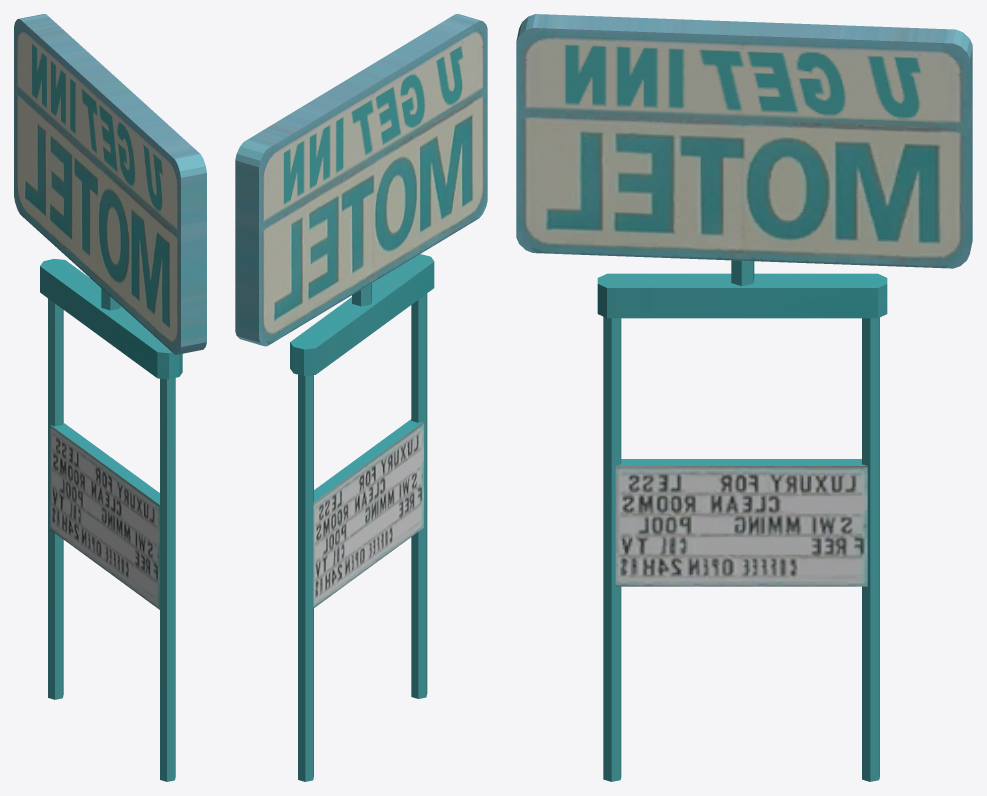
Rendered from des_stmotsigbas1.obj.
3 views of the same model, side by side, from view 1: azimuth 30°, elevation 25°; view 2: azimuth 150°, elevation 25°; view 3: azimuth 270°, elevation 25° (orthographic). The views are drawn at different scales.
Parts seen in each view (by area): view 1: des_stwnmotsign1, des_stmotsigbas1; view 2: des_stwnmotsign1, des_stmotsigbas1; view 3: des_stwnmotsign1, des_stmotsigbas1.
Boxes of the visible parts, bbox=[...] form: des_stwnmotsign1: bbox=[14, 14, 206, 354]; des_stmotsigbas1: bbox=[40, 259, 182, 781]; des_stwnmotsign1: bbox=[235, 14, 487, 346]; des_stmotsigbas1: bbox=[290, 254, 434, 781]; des_stwnmotsign1: bbox=[516, 14, 972, 268]; des_stmotsigbas1: bbox=[597, 260, 887, 781].
Size of the model in its own units: 0.8778 by 9.98 by 5.51.
Materials: 3 (3 with a texture image).
